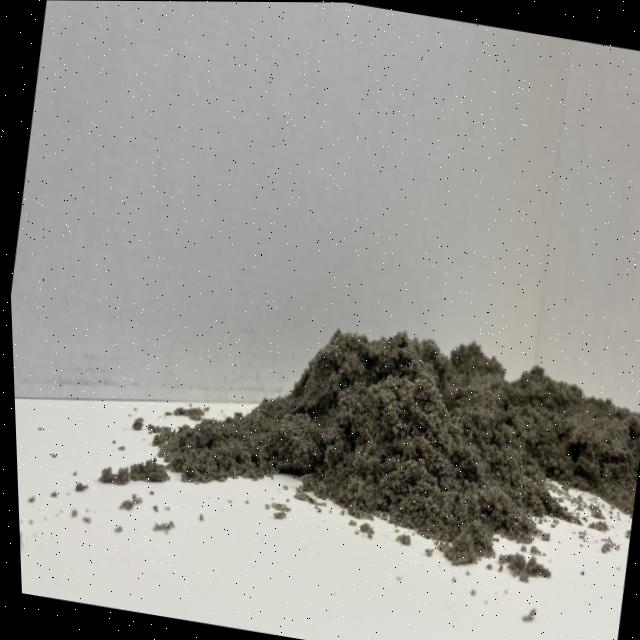sand: (177, 281, 640, 571)
